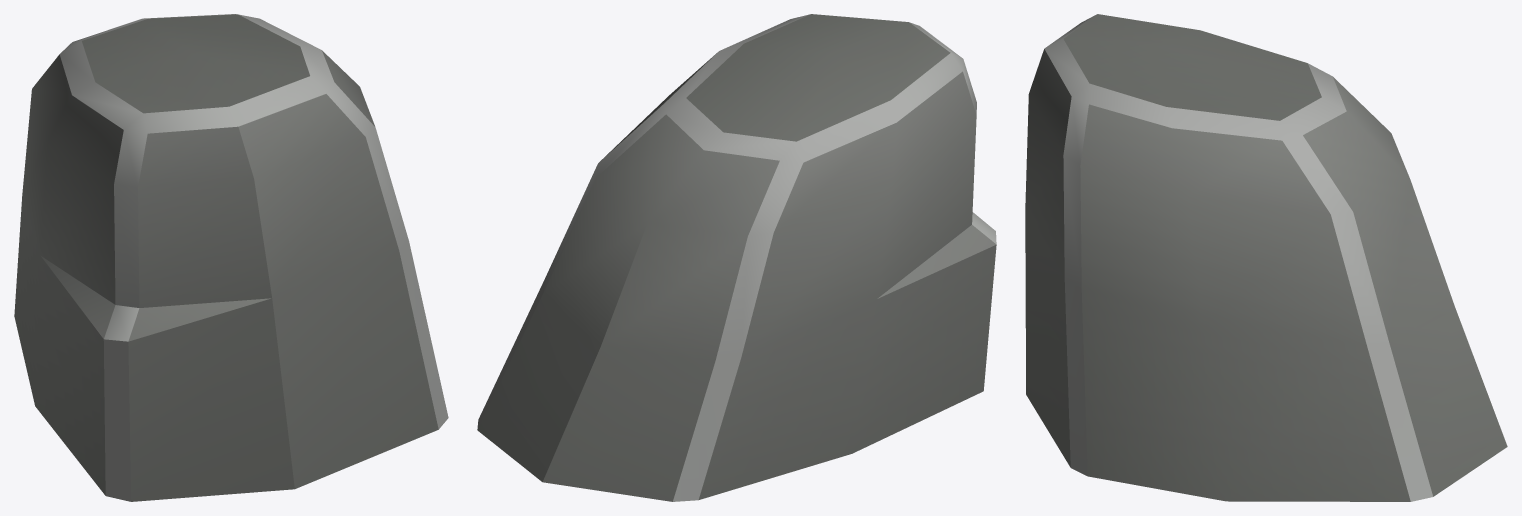
File: Rock-1-2.fbx
3 views of the same model, side by side, from view 1: azimuth 30°, elevation 25°; view 2: azimuth 150°, elevation 25°; view 3: azimuth 270°, elevation 25° (orthographic). The views are drawn at different scales.
Parts seen in each view (by area): view 1: Rock-1-2; view 2: Rock-1-2; view 3: Rock-1-2.
Part boxes in pixels (<box>): Rock-1-2: <box>14,14,448,501</box>; Rock-1-2: <box>477,14,996,501</box>; Rock-1-2: <box>1025,14,1507,501</box>.
Bounding box in the file's own units: 109 × 97.99 × 126.
